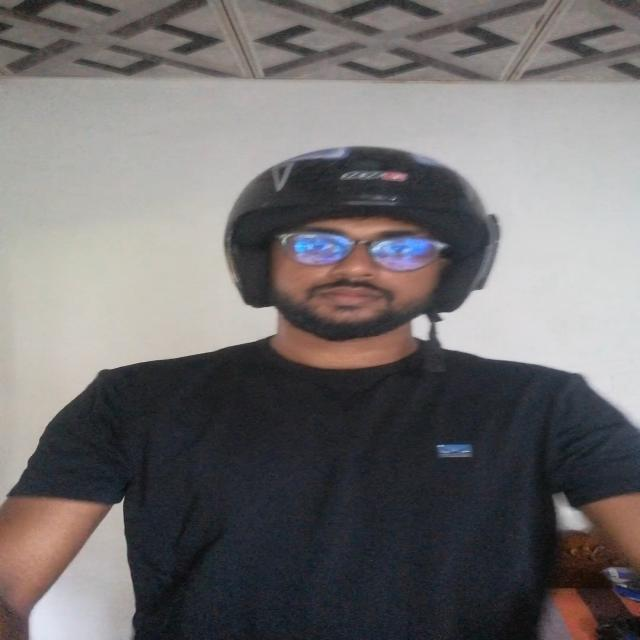Helmet_Wearer: (188, 145, 572, 413)
Person: (3, 162, 640, 640)
